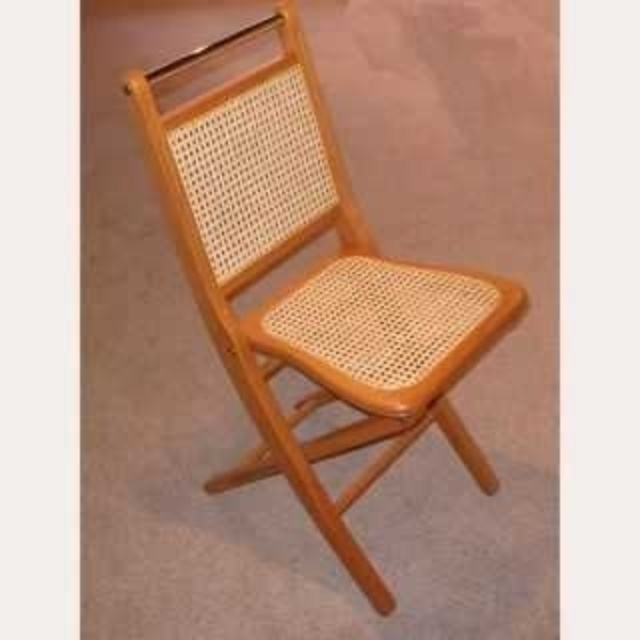obstacle: (88, 0, 556, 638)
